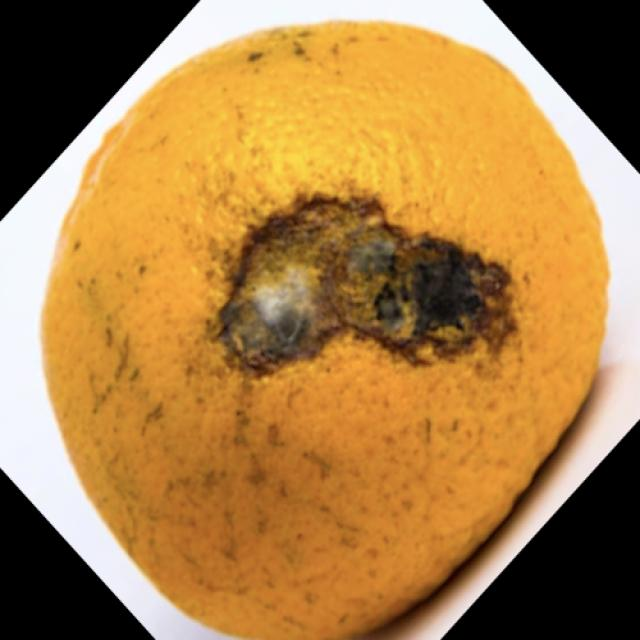sedikit_busuk: (46, 29, 611, 639)
